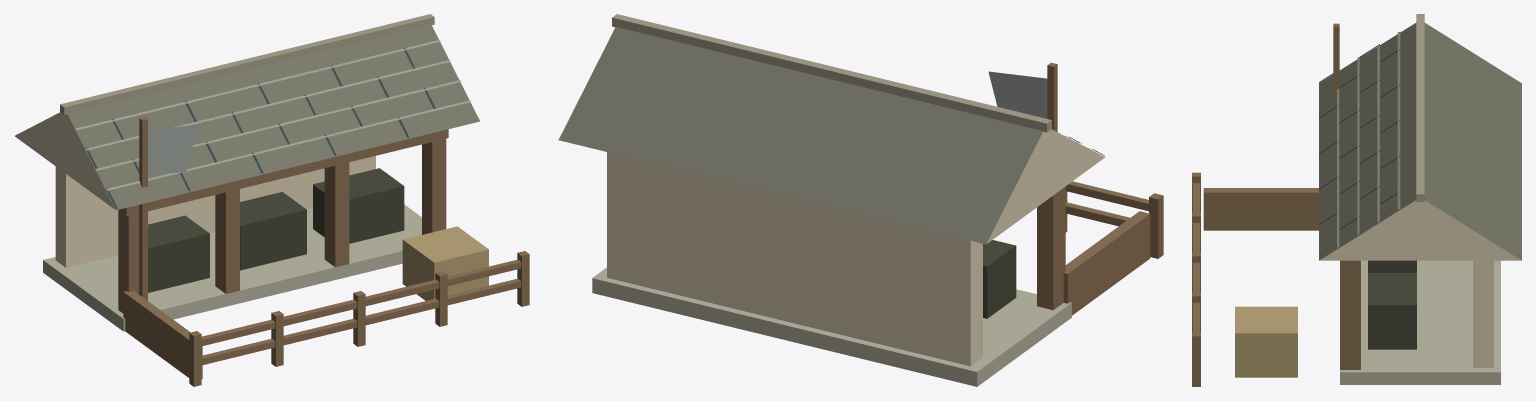
Rendered from stables.glb.
The picture shows the model from 3 angles, left to right: view 1: azimuth 30°, elevation 25°; view 2: azimuth 150°, elevation 25°; view 3: azimuth 270°, elevation 25°; orthographic projection. The views are drawn at different scales.
Visible parts, largest first — view 1: Building; view 2: Building; view 3: Building.
Part boxes in pixels (x1,y1,x2,y2): Building: (15, 14, 529, 386); Building: (558, 14, 1163, 386); Building: (1192, 14, 1521, 386).
Bounding box in the file's own units: 61 × 33 × 47.15.
